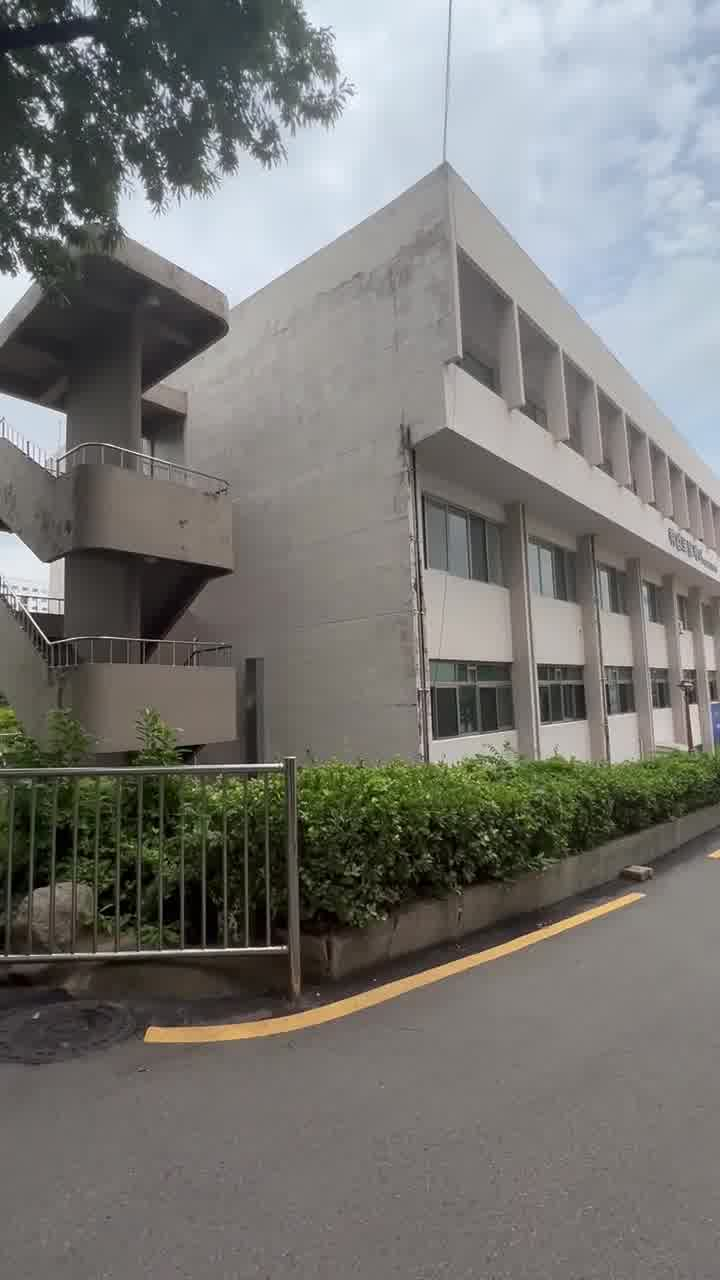low: (54, 246, 720, 754)
